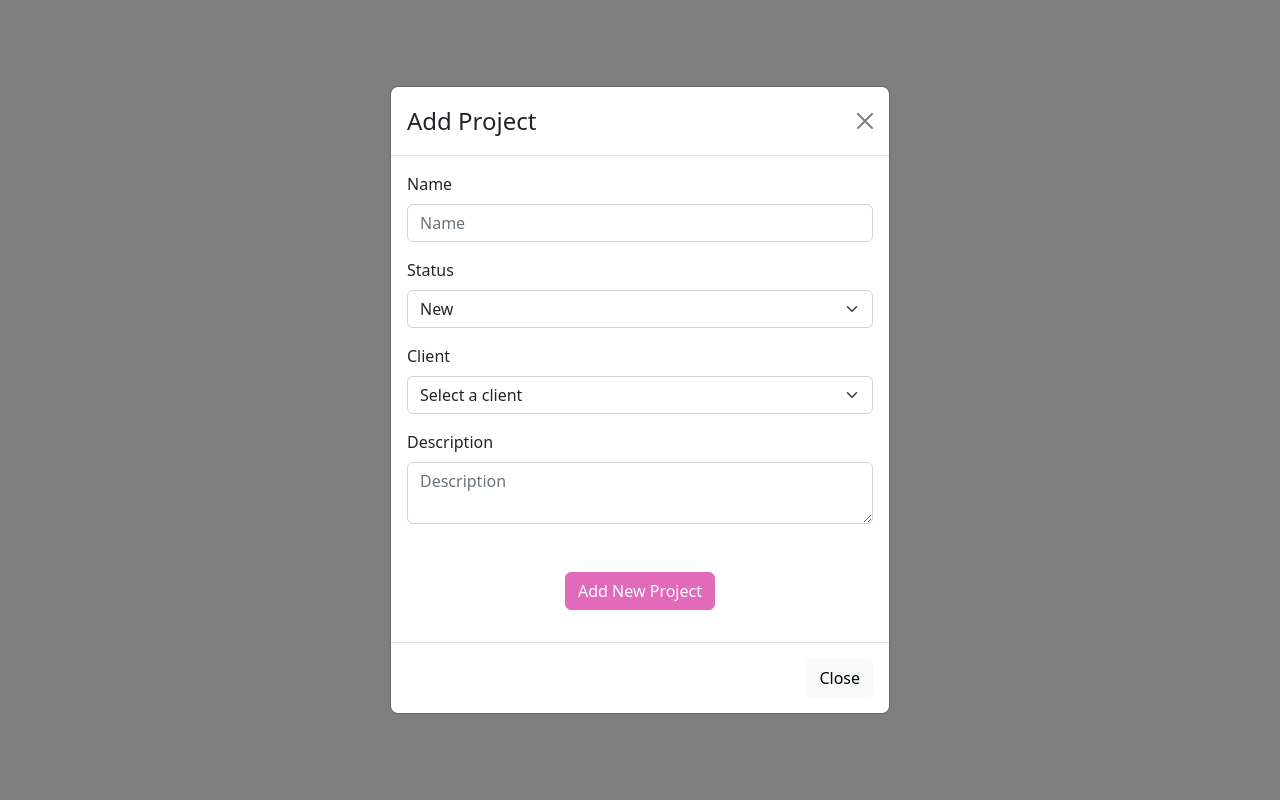
Test: AddProject component › Should show error while user inputs wrong data
The width and height of the screenshot is (1280, 800).
In the field labelled "Name": (640, 223) [407, 204, 873, 242], type "ab"
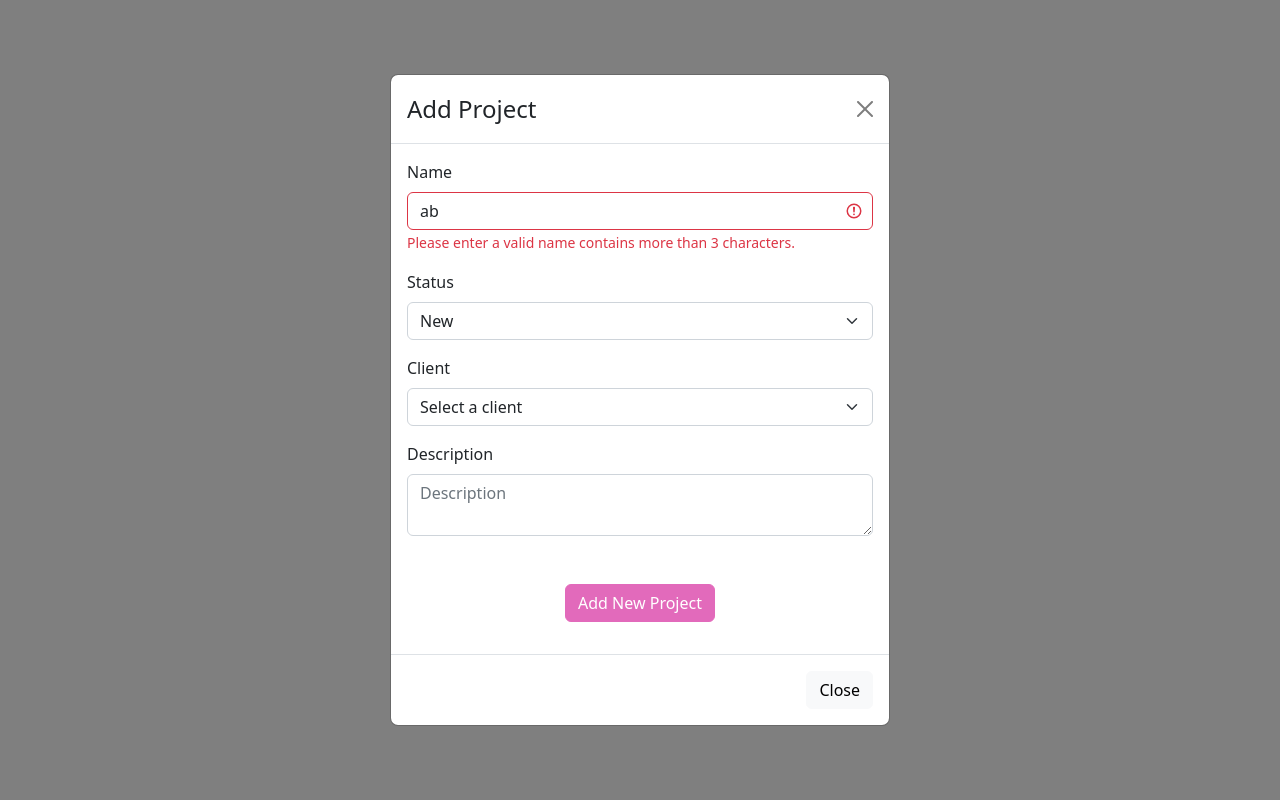
In the text box labelled "Description": (640, 505) [407, 474, 873, 536], type "ab"
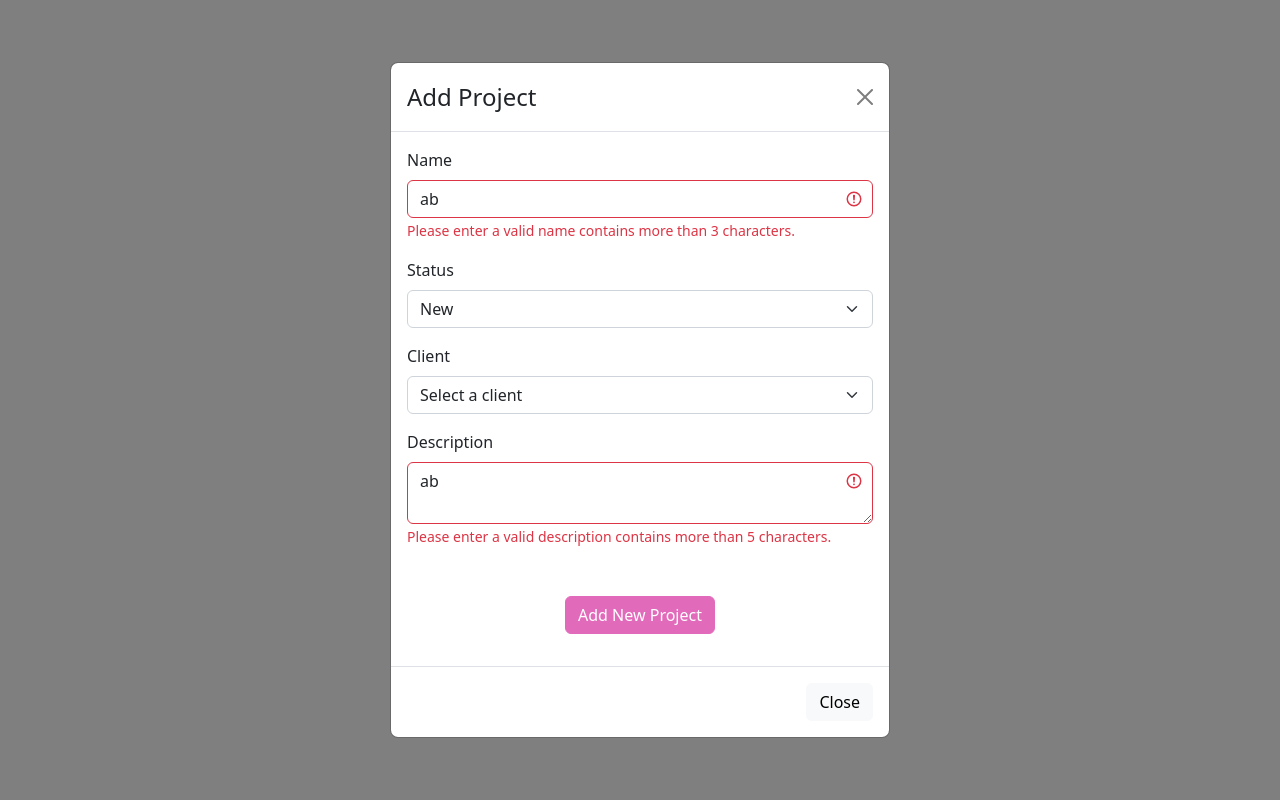
Expected: the button "Add New Project" is disabled, [565, 596, 715, 634]
Expected: the text "Please enter a valid name contains more than 3 characters." is shown, [407, 221, 795, 240]
Expected: the text "Please enter a valid description contains more than 5 characters." is shown, [407, 527, 831, 546]
